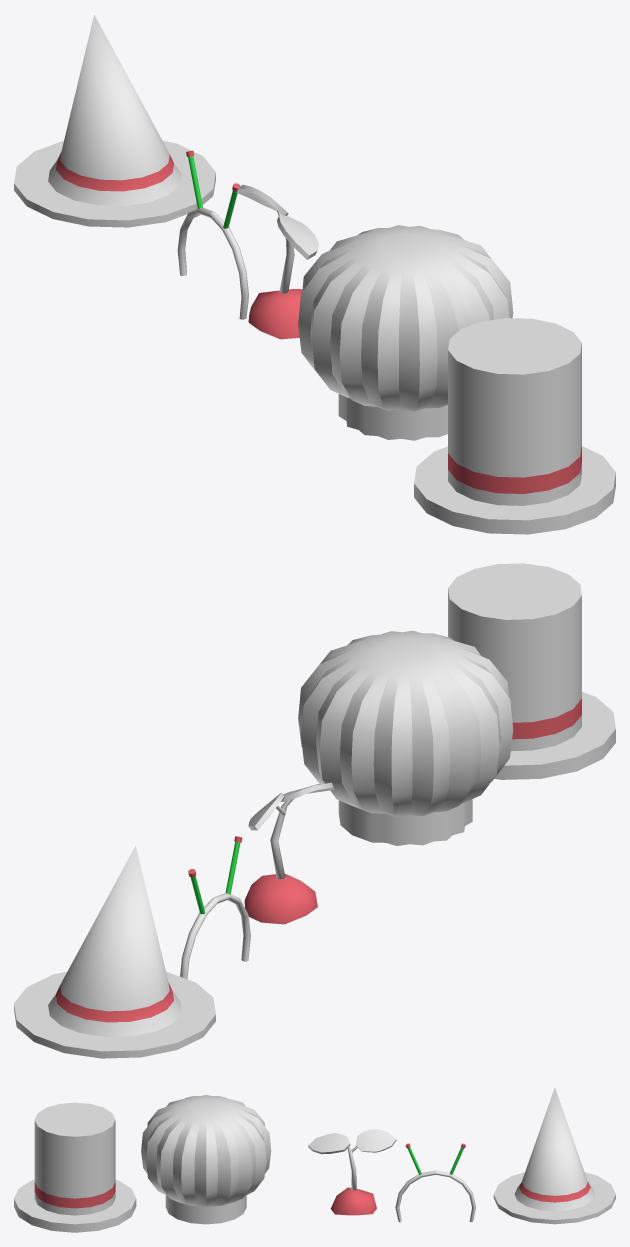
The model's file is hats-2.fbx.
3 views of the same model, one above another, from view 1: azimuth 30°, elevation 25°; view 2: azimuth 150°, elevation 25°; view 3: azimuth 270°, elevation 25° (orthographic). The views are drawn at different scales.
Parts seen in each view (by area): view 1: Chef, Top, Wizard, Sprout, Sparkle; view 2: Chef, Top, Wizard, Sprout, Sparkle; view 3: Chef, Top, Wizard, Sprout, Sparkle.
Part boxes in pixels (left/top/right/bottom): Chef: left=298, top=225, right=513, bottom=440; Top: left=414, top=318, right=615, bottom=534; Wizard: left=14, top=15, right=215, bottom=227; Sprout: left=236, top=184, right=318, bottom=339; Sparkle: left=177, top=150, right=248, bottom=319; Chef: left=298, top=630, right=513, bottom=845; Top: left=448, top=563, right=615, bottom=779; Wizard: left=14, top=845, right=215, bottom=1058; Sprout: left=244, top=782, right=333, bottom=924; Sparkle: left=180, top=836, right=250, bottom=978; Chef: left=141, top=1095, right=271, bottom=1224; Top: left=14, top=1102, right=136, bottom=1232; Wizard: left=493, top=1087, right=615, bottom=1224; Sprout: left=308, top=1129, right=396, bottom=1215; Sparkle: left=395, top=1143, right=475, bottom=1222.
Bounding box in the file's own units: 3.22 × 3.5 × 14.87.
